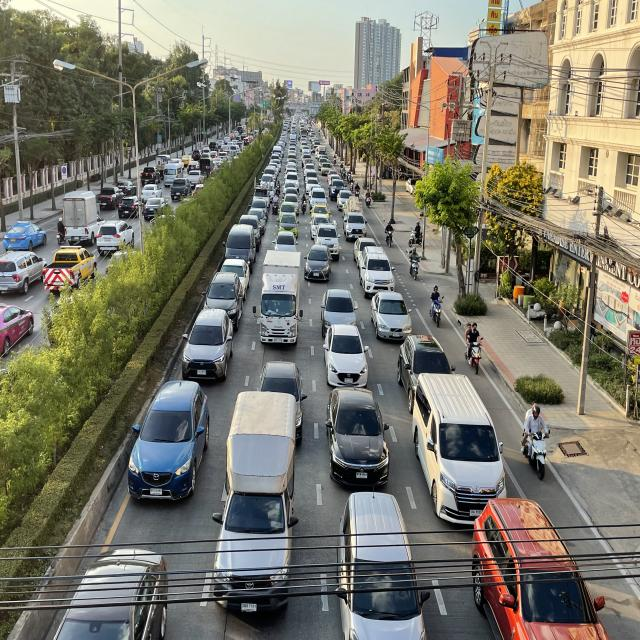bike: (520, 399, 554, 483), (463, 322, 485, 376), (429, 284, 445, 328), (408, 246, 421, 282), (408, 220, 424, 248), (384, 220, 395, 249)
car: (468, 495, 612, 640), (410, 370, 510, 530), (333, 485, 431, 640), (50, 545, 170, 640), (128, 377, 212, 503), (324, 383, 391, 487), (396, 333, 456, 413), (255, 359, 308, 444), (322, 324, 370, 386), (370, 290, 413, 340), (321, 287, 358, 337), (303, 244, 333, 282)
truck: (210, 390, 300, 617), (256, 250, 304, 350), (359, 246, 396, 299), (343, 196, 368, 242)
